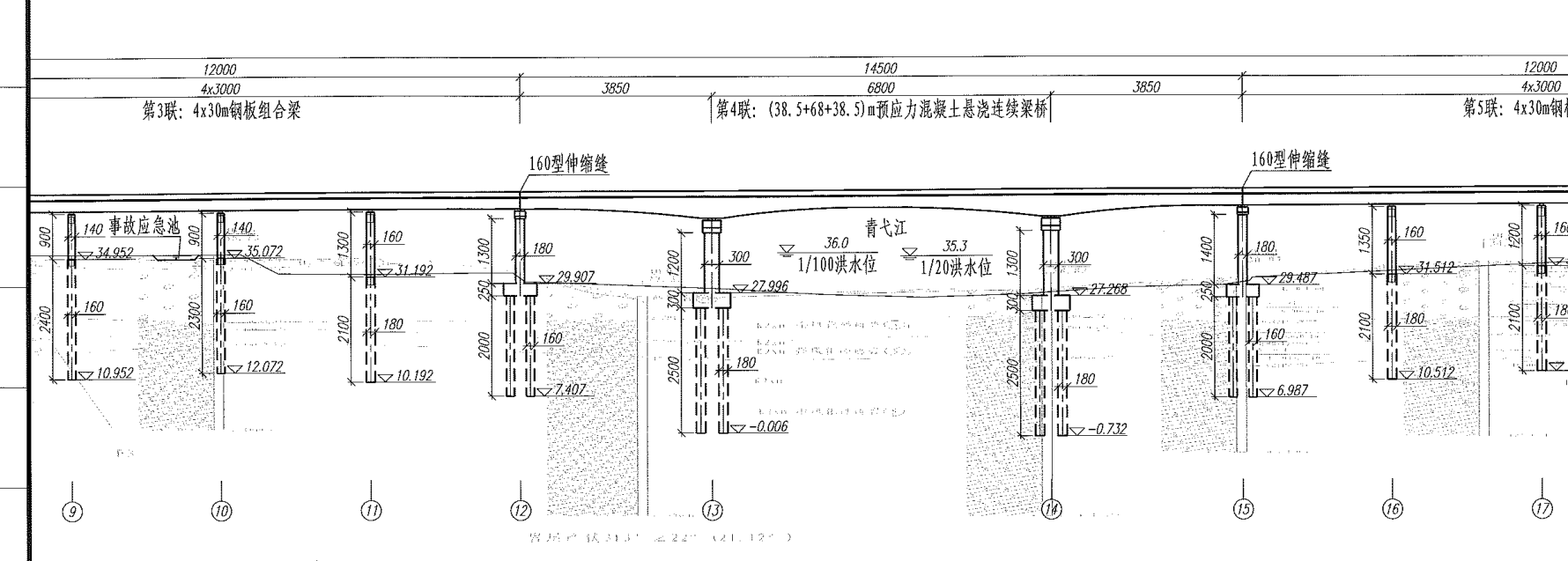B: (499, 60, 1276, 85)
C: (486, 197, 614, 528), (1211, 196, 1337, 526), (1016, 209, 1145, 528), (679, 208, 807, 528), (193, 197, 303, 526), (45, 201, 151, 528), (349, 197, 454, 526), (1370, 195, 1470, 527), (1521, 196, 1567, 530)
